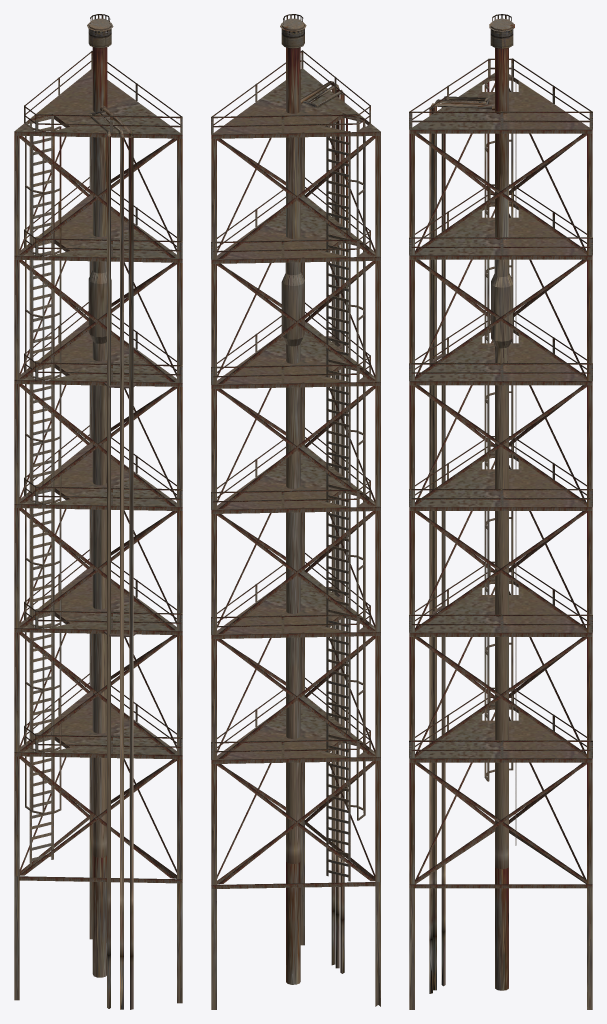
File: O_Flare.glb
The picture shows the model from 3 angles, left to right: view 1: azimuth 30°, elevation 25°; view 2: azimuth 150°, elevation 25°; view 3: azimuth 270°, elevation 25°; orthographic projection.
Visible parts, largest first — view 1: _O_Flare; view 2: _O_Flare; view 3: _O_Flare.
Part boxes in pixels (x1=…): _O_Flare: x1=14, y1=14, x2=182, y2=1009; _O_Flare: x1=211, y1=14, x2=380, y2=1009; _O_Flare: x1=409, y1=14, x2=592, y2=1009.
Size of the model in its own units: 7.28 by 54.37 by 9.27.
6 materials, 6 textured.
